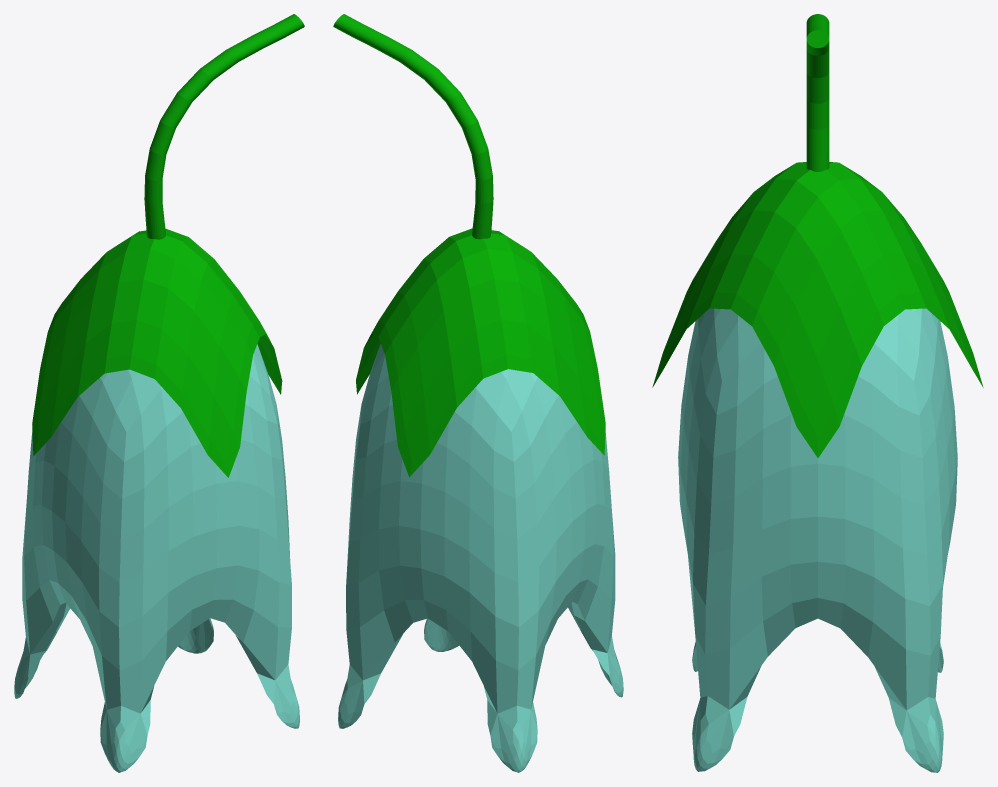
File: ホタルブクロ水色.fbx
3 renders of one model, left to right at view 1: azimuth 30°, elevation 25°; view 2: azimuth 150°, elevation 25°; view 3: azimuth 270°, elevation 25°, orthographic. The views are drawn at different scales.
Visible parts, largest first — view 1: Cube.001, Cube, Cylinder; view 2: Cube.001, Cube, Cylinder; view 3: Cube.001, Cube, Cylinder.
Part boxes in pixels (x1=…): Cube.001: x1=14, y1=344, x2=299, y2=772; Cube: x1=32, y1=228, x2=282, y2=477; Cylinder: x1=144, y1=14, x2=304, y2=239; Cube.001: x1=338, y1=344, x2=623, y2=772; Cube: x1=356, y1=228, x2=605, y2=477; Cylinder: x1=333, y1=14, x2=493, y2=239; Cube.001: x1=678, y1=308, x2=957, y2=772; Cube: x1=652, y1=162, x2=983, y2=457; Cylinder: x1=806, y1=14, x2=829, y2=171.
Bounding box in the file's own units: 337 × 797 × 311.
